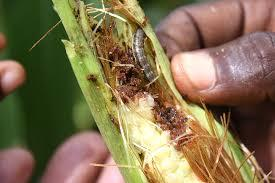fallarmy_worm: (131, 25, 163, 87)
